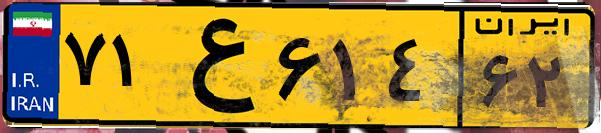1: (330, 28, 385, 110), (110, 28, 158, 98)
2: (525, 38, 570, 115)
4: (385, 28, 445, 110)
6: (270, 28, 330, 110), (475, 38, 525, 113)
7: (57, 26, 110, 100)
ع: (158, 12, 270, 120)
